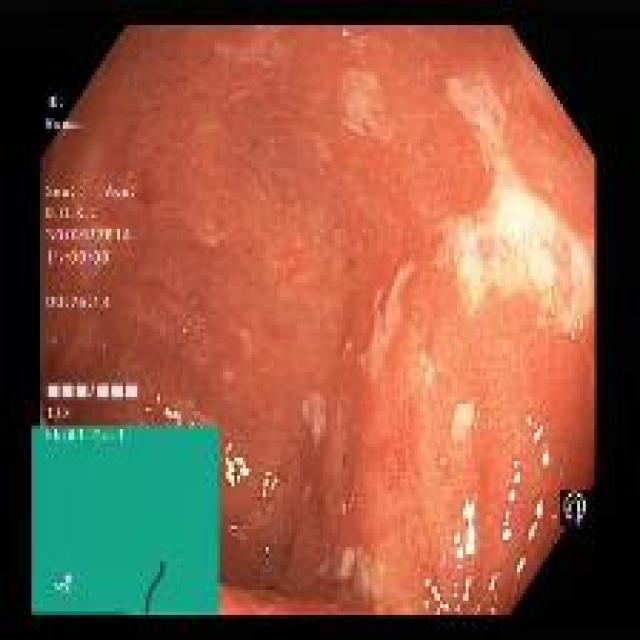ulcerative-colitis: (42, 27, 595, 616)
